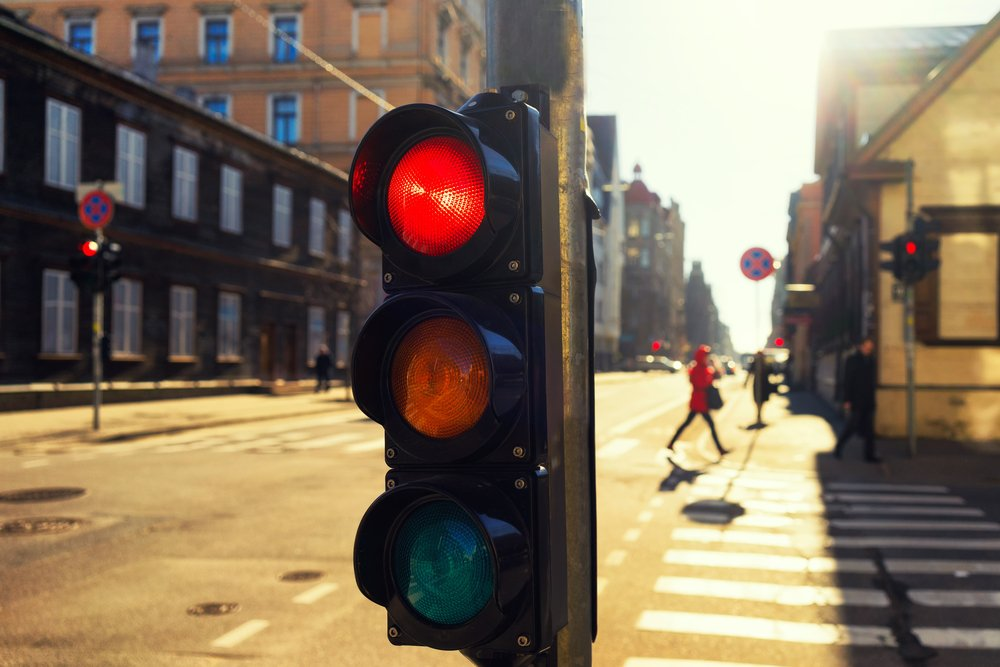pedestrian lane: (658, 468, 1000, 667)
person: (666, 348, 731, 455), (840, 338, 882, 463)
pole: (486, 1, 594, 667)
traffic light: (348, 94, 568, 657), (893, 235, 924, 278)
